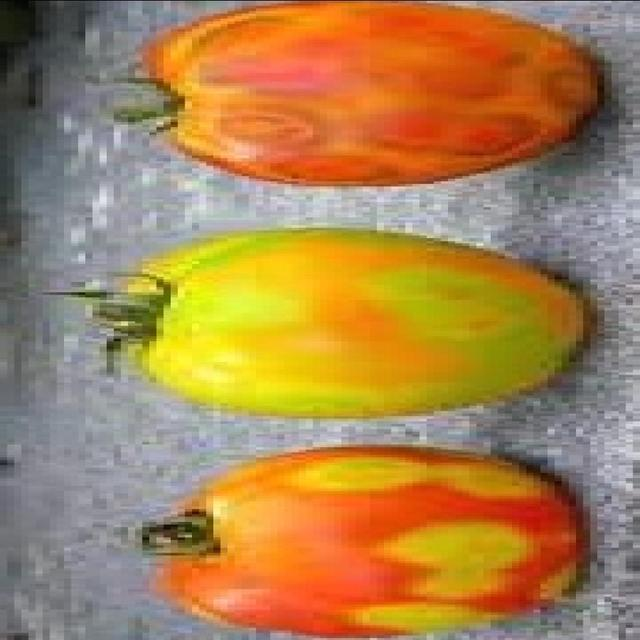Spotted wilt Virus Fruit: (71, 0, 175, 420)
